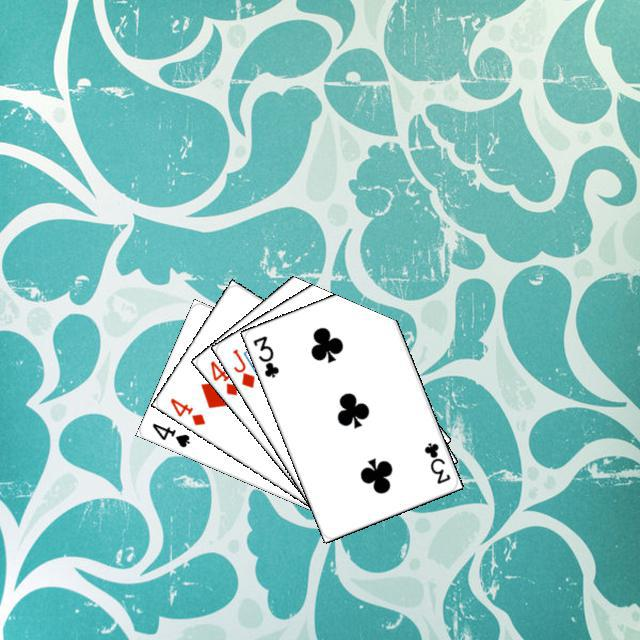3c: (248, 331, 281, 380), (419, 437, 452, 486)
4d: (165, 393, 207, 427), (205, 356, 239, 397)
4s: (147, 418, 192, 449)
Jd: (228, 344, 257, 390)
